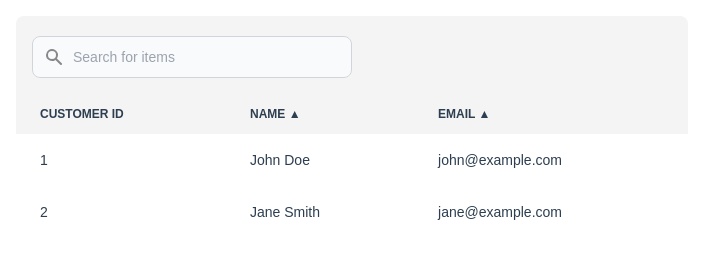
Scenario: TableComponent › filters the data correctly based on search query
# Set the search query to "John"
Type "John" into the field with id "table-search" at (192, 57), box [32,36,352,78]
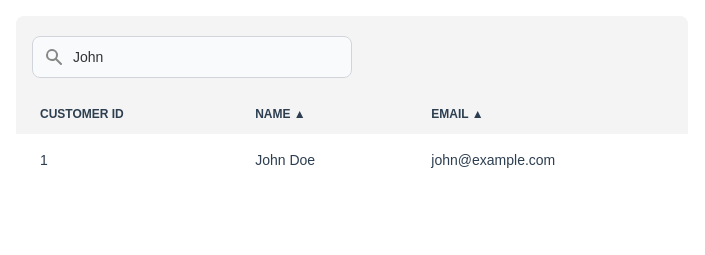
Check: the cell "John Doe" is shown, box [231,134,407,186]
Check: the number of cells is 3, box [16,134,231,186]; [231,134,407,186]; [407,134,688,186]
# Set the search query to "example"
Replace the text in the field with id "table-search" with "example" at (192, 57), box [32,36,352,78]
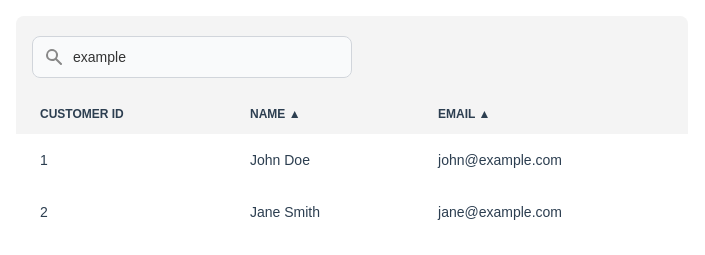
Check: the cell "John Doe" is shown, box [226,134,414,186]
Check: the number of cells is 6, box [16,134,226,186]; [226,134,414,186]; [414,134,688,186]; [16,186,226,238]; [226,186,414,238]; [414,186,688,238]
